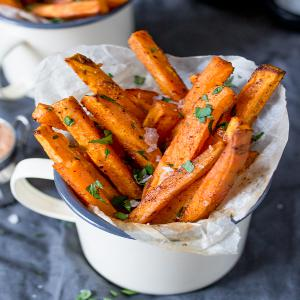fries_350cal: (29, 43, 284, 217)
